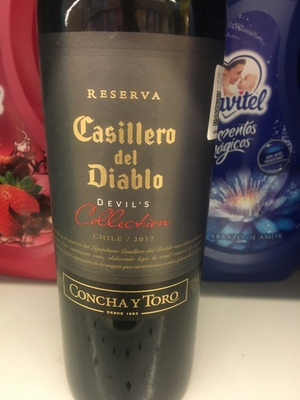casillero del diablo devils collection rojo: (41, 8, 222, 400)
